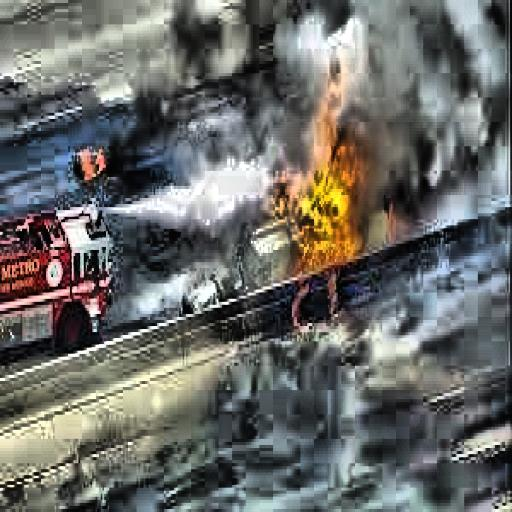fire: (264, 119, 367, 265)
